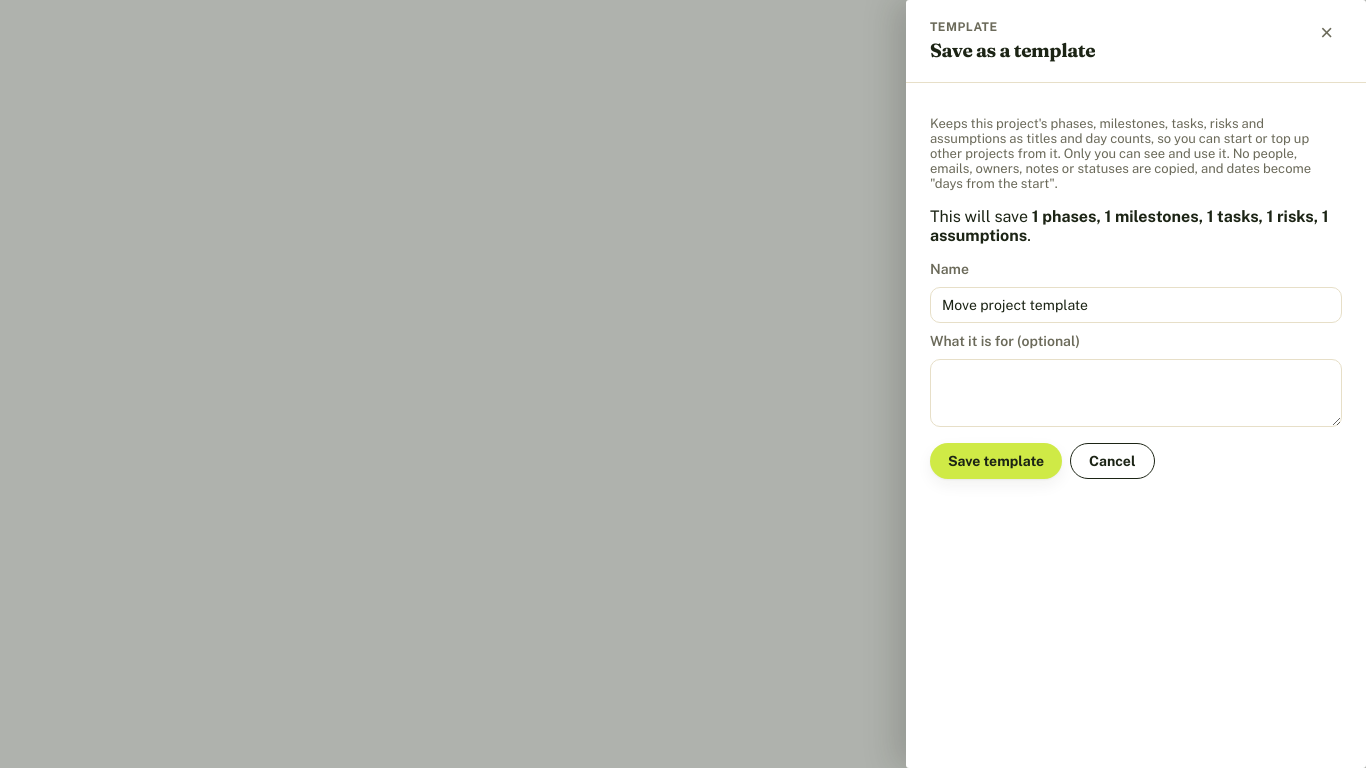
Test: custom templates screens › save drawer: previews what is kept, saves with the typed name, then lists it with Delete
Expected: the field named "Template name" holds "Move project template", [930,287,1342,323]
What coordinates should you click on to do the following:
click the button "Save template"
I would click on:
 (996, 461)
Its box is [930,443,1062,479].
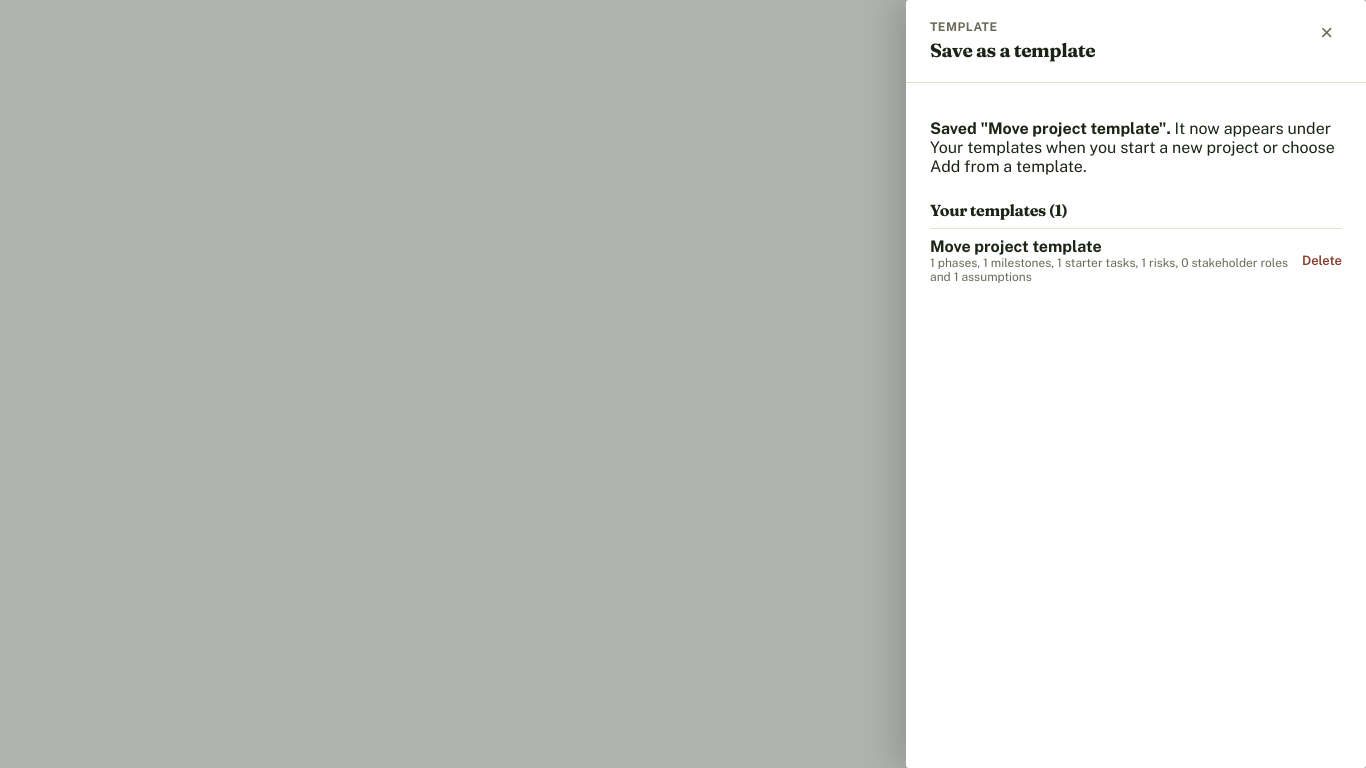
Expected: the text "Saved \"Move project template\"" is shown, [930,119,1171,138]
Expected: the text "Your templates (1)" is shown, [930,200,1068,220]
